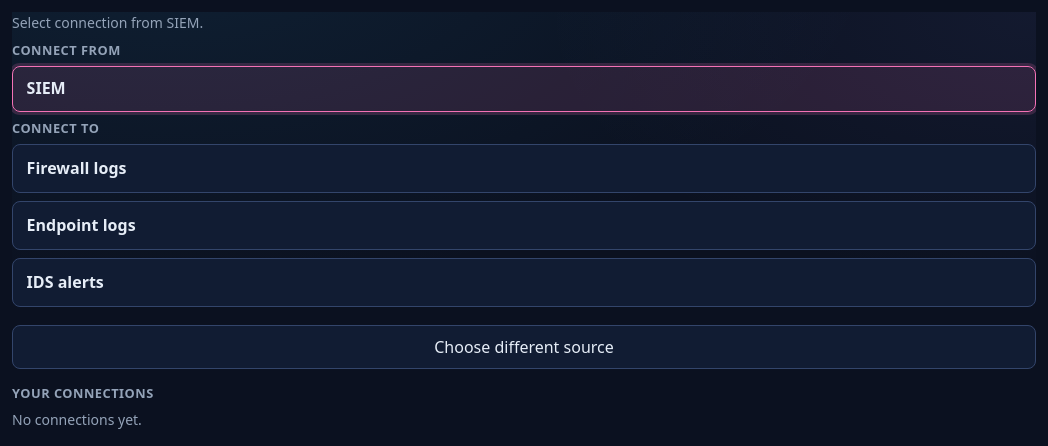
Scenario: MobileNodeConnection › lets the learner change away from the provided start source
The image size is (1048, 446).
Click the button "Choose different source". click: [524, 347]
box: left=12, top=325, right=1036, bottom=369
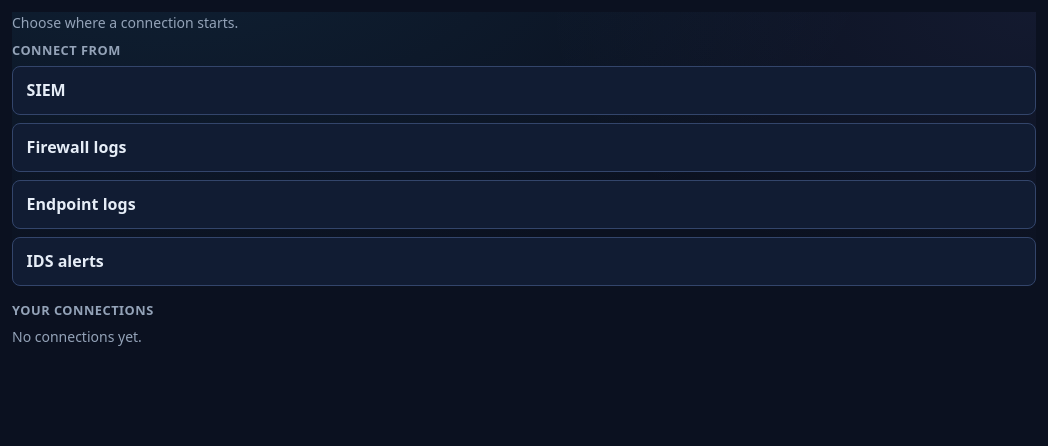
Expected: the list named "Connect from" is shown, left=12, top=66, right=1036, bottom=286
